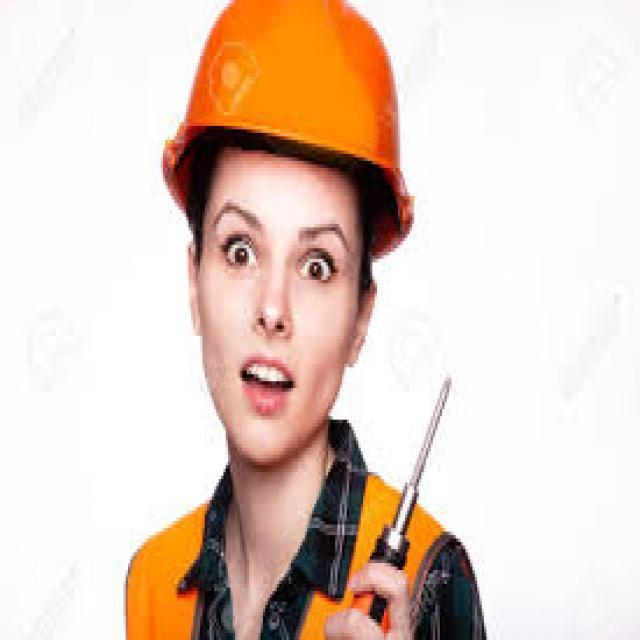screwdriver: (352, 366, 452, 638)
